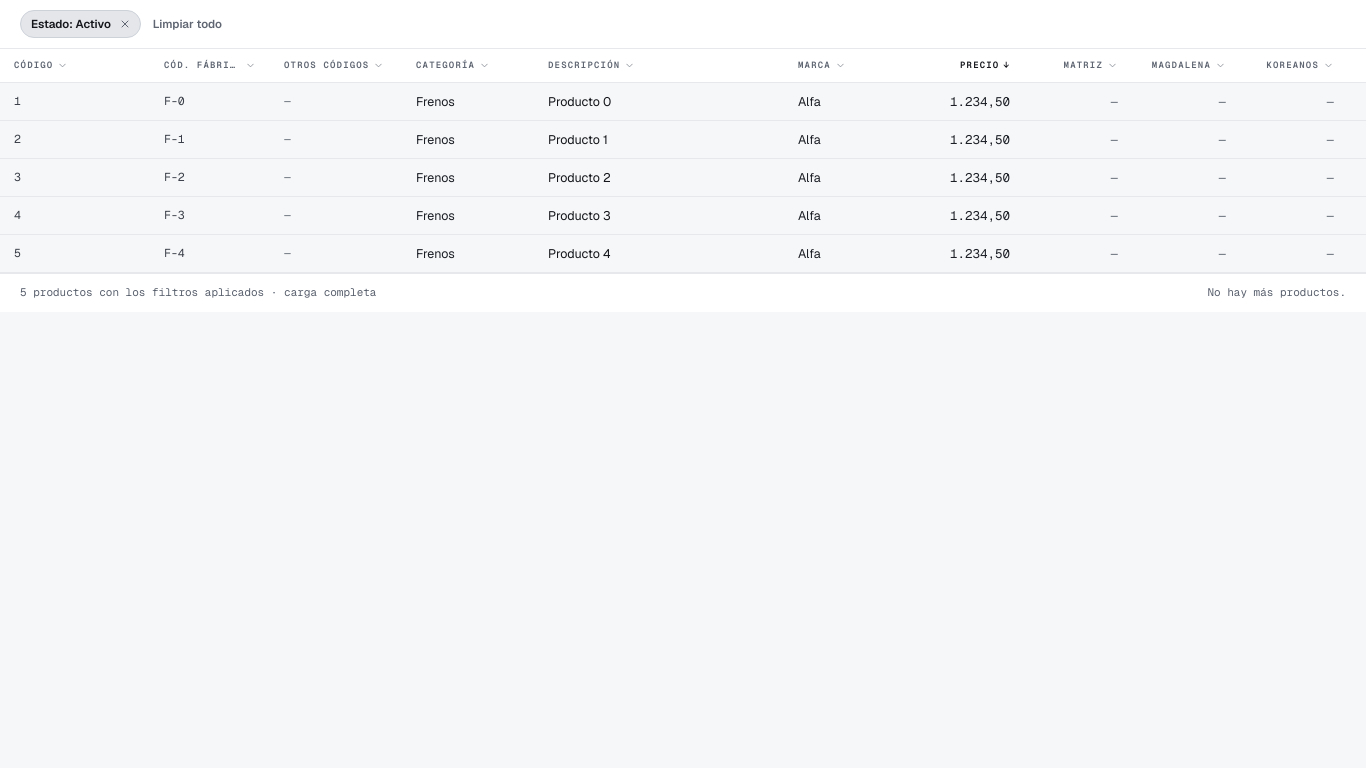
Test: panel de lista de valores: se aplica al instante › pide la lista de esa columna con los filtros de la URL, sin el orden
This screenshot has width=1366, height=768.
Check: the row that starts with "F-0" is shown, box [0,83,1365,121]
Click the button "Marca" at (842, 66), box [784,49,900,83]
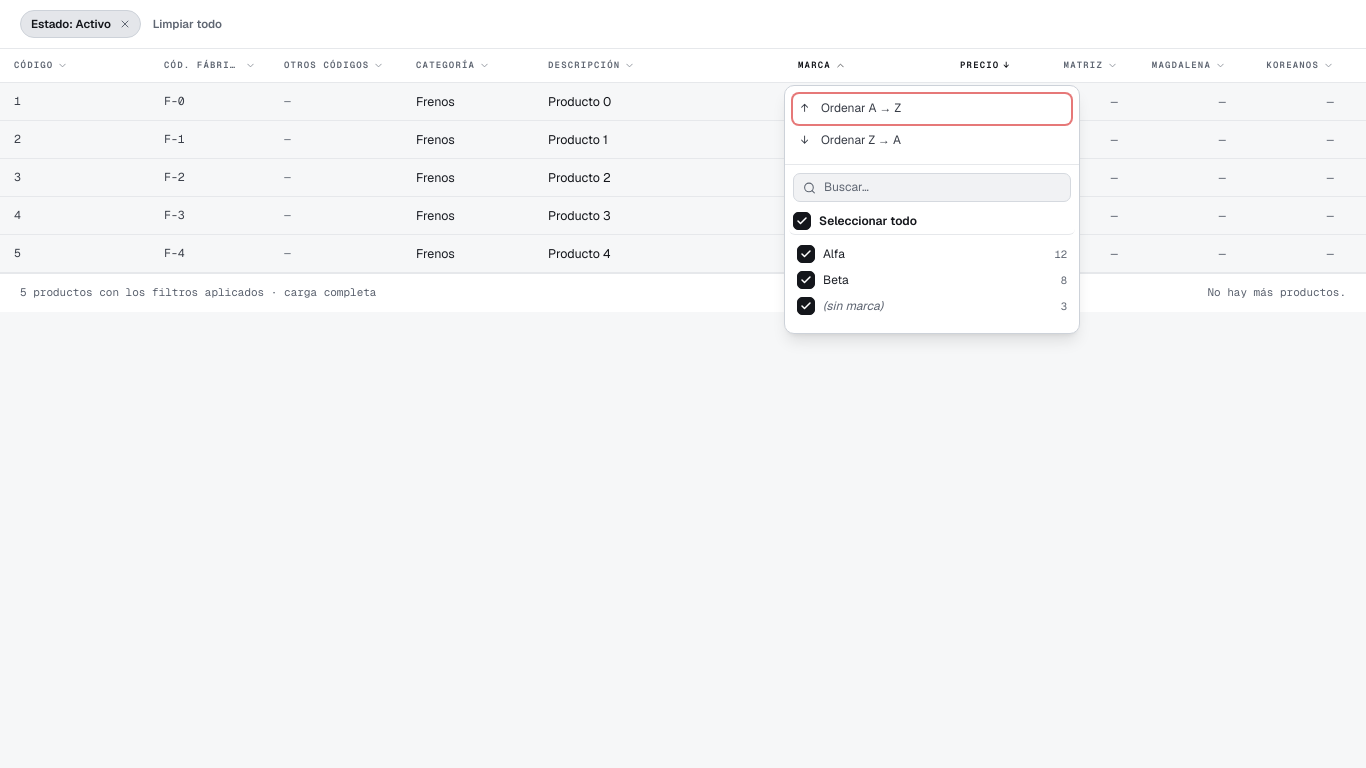
Check: the checkbox labelled "Alfa 12" is shown, box [797,245,815,263]
